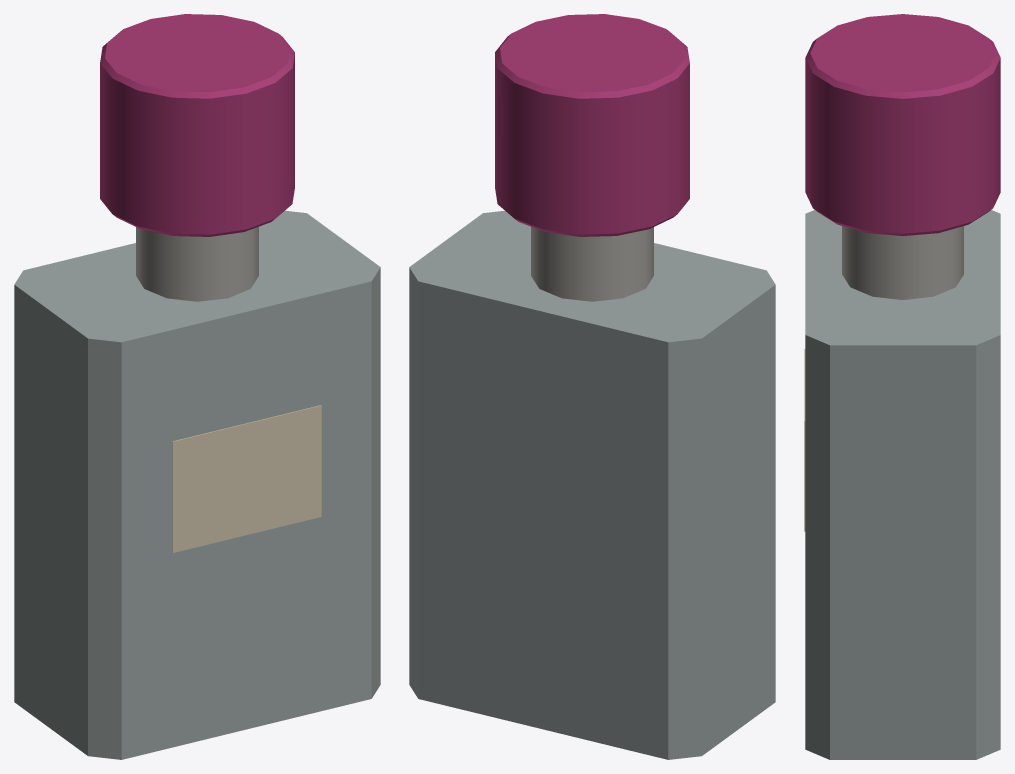
File: perfume-bottle-d6242b7da5ca.glb
The picture shows the model from 3 angles, left to right: view 1: azimuth 30°, elevation 25°; view 2: azimuth 150°, elevation 25°; view 3: azimuth 270°, elevation 25°; orthographic projection.
Visible parts, largest first — view 1: glass-clear, accent-magenta, paper, brushed; view 2: glass-clear, accent-magenta, brushed; view 3: glass-clear, accent-magenta, brushed, paper.
Boxes of the visible parts, bbox=[...] form: glass-clear: bbox=[14, 210, 380, 759]; accent-magenta: bbox=[100, 14, 294, 236]; paper: bbox=[172, 405, 321, 552]; brushed: bbox=[136, 226, 258, 301]; glass-clear: bbox=[409, 210, 775, 759]; accent-magenta: bbox=[495, 14, 689, 236]; brushed: bbox=[531, 226, 653, 301]; glass-clear: bbox=[805, 210, 1000, 759]; accent-magenta: bbox=[805, 14, 1000, 235]; brushed: bbox=[842, 226, 963, 299]; paper: bbox=[804, 349, 805, 531].
Size of the model in its own units: 0.055 by 0.115 by 0.0322.
